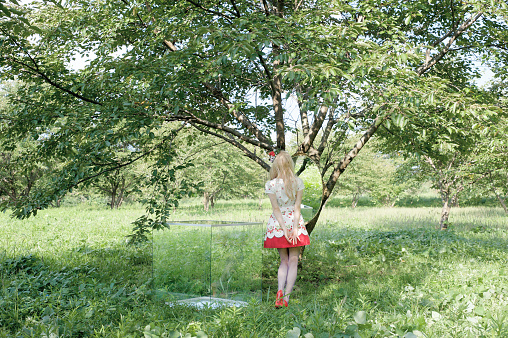em pe: (254, 144, 317, 304)
